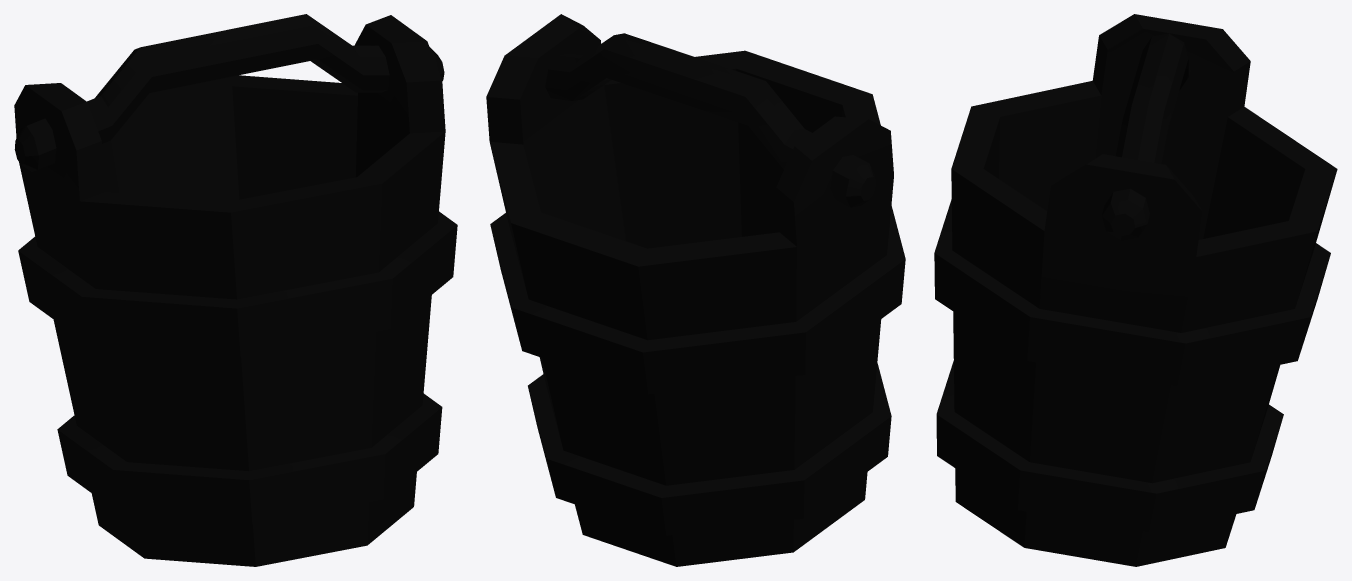
Rendered from BucketEquiped.obj.
3 views of the same model, side by side, from view 1: azimuth 30°, elevation 25°; view 2: azimuth 150°, elevation 25°; view 3: azimuth 270°, elevation 25° (orthographic). The views are drawn at different scales.
Parts seen in each view (by area): view 1: b_Mesh; view 2: b_Mesh; view 3: b_Mesh.
Part boxes in pixels (box(x1,y1,x2,y2)): b_Mesh: box(14, 14, 457, 566); b_Mesh: box(486, 14, 905, 566); b_Mesh: box(934, 14, 1337, 566).
Size of the model in its own units: 0.9677 by 1.13 by 0.9099.
Materials: 1 (1 with a texture image).
